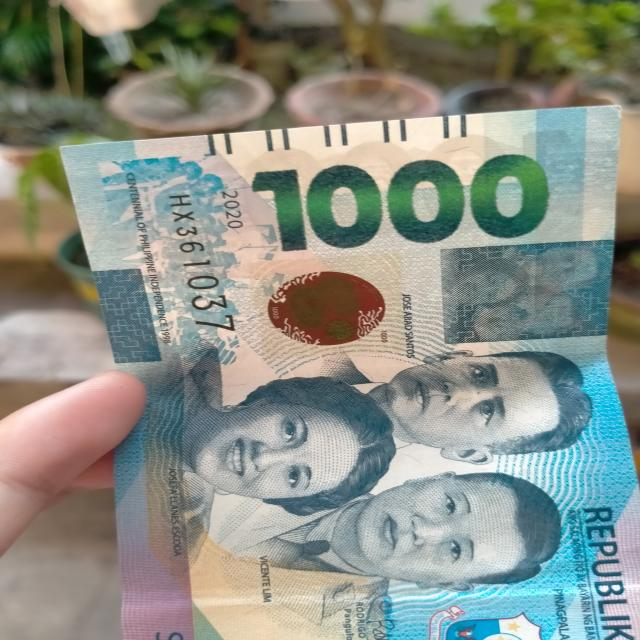concealed_value: (440, 239, 610, 339)
optically_variable_device: (242, 252, 404, 356)
serial_number: (163, 186, 238, 334)
